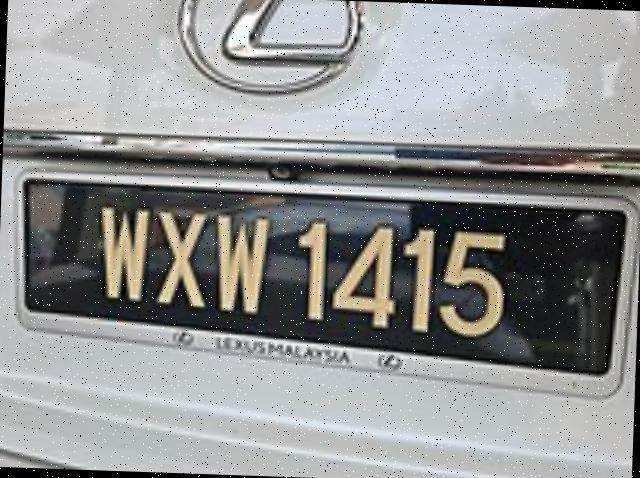License_Plate: (34, 186, 585, 364)
